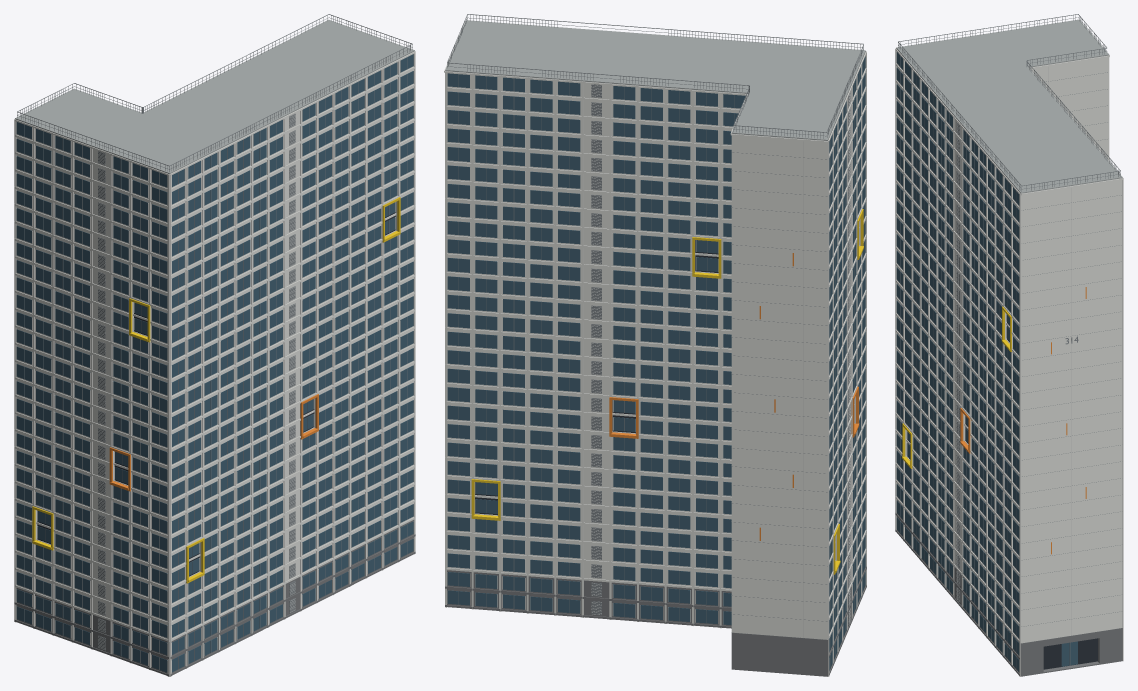
File: bespoke-songpa-helio-city-314.glb
The picture shows the model from 3 angles, left to right: view 1: azimuth 30°, elevation 25°; view 2: azimuth 150°, elevation 25°; view 3: azimuth 270°, elevation 25°; orthographic projection. The views are drawn at different scales.
Parts seen in each view (by area): view 1: Helio314_editable_Helio314_dark_blue_grey_glazing002, Helio314_editable_Helio314_white_slab_frames002, Helio314_editable_Helio314_low_roof_deck002, Helio314_editable_Helio314_grey_service_grille002, Helio314_editable_Helio314_dark_grey_twofloor_base002, Helio314_editable_Helio314_blankwall_grey_panels002, Helio314_editable_Helio314_yellow_projecting_rectangular_fra, Helio314_editable_Helio314_orange_narrow_accent002; view 2: Helio314_editable_Helio314_white_slab_frames002, Helio314_editable_Helio314_dark_blue_grey_glazing002, Helio314_editable_Helio314_low_roof_deck002, Helio314_editable_Helio314_grey_service_grille002, Helio314_editable_Helio314_dark_grey_twofloor_base002, Helio314_editable_Helio314_blankwall_grey_panels002, Helio314_editable_Helio314_yellow_projecting_rectangular_fra, Helio314_editable_Helio314_orange_narrow_accent002; view 3: Helio314_editable_Helio314_white_slab_frames002, Helio314_editable_Helio314_dark_blue_grey_glazing002, Helio314_editable_Helio314_low_roof_deck002, Helio314_editable_Helio314_grey_service_grille002, Helio314_editable_Helio314_dark_grey_twofloor_base002, Helio314_editable_Helio314_blankwall_grey_panels002, Helio314_editable_Helio314_deep_shaded_frame_recess002, Helio314_editable_Helio314_yellow_projecting_rectangular_fra, Helio314_editable_Helio314_orange_narrow_accent002.
Boxes of the visible parts, x1=… form: Helio314_editable_Helio314_dark_blue_grey_glazing002: x1=16, y1=54, x2=413, y2=672; Helio314_editable_Helio314_white_slab_frames002: x1=14, y1=51, x2=415, y2=676; Helio314_editable_Helio314_low_roof_deck002: x1=15, y1=19, x2=414, y2=173; Helio314_editable_Helio314_grey_service_grille002: x1=17, y1=14, x2=412, y2=669; Helio314_editable_Helio314_dark_grey_twofloor_base002: x1=14, y1=520, x2=415, y2=676; Helio314_editable_Helio314_blankwall_grey_panels002: x1=98, y1=113, x2=295, y2=649; Helio314_editable_Helio314_yellow_projecting_rectangular_fra: x1=32, y1=197, x2=400, y2=583; Helio314_editable_Helio314_orange_narrow_accent002: x1=109, y1=394, x2=318, y2=491; Helio314_editable_Helio314_white_slab_frames002: x1=444, y1=21, x2=866, y2=676; Helio314_editable_Helio314_dark_blue_grey_glazing002: x1=447, y1=56, x2=865, y2=670; Helio314_editable_Helio314_low_roof_deck002: x1=445, y1=20, x2=865, y2=140; Helio314_editable_Helio314_grey_service_grille002: x1=447, y1=14, x2=863, y2=667; Helio314_editable_Helio314_dark_grey_twofloor_base002: x1=445, y1=563, x2=866, y2=676; Helio314_editable_Helio314_blankwall_grey_panels002: x1=591, y1=84, x2=850, y2=637; Helio314_editable_Helio314_yellow_projecting_rectangular_fra: x1=471, y1=209, x2=863, y2=574; Helio314_editable_Helio314_orange_narrow_accent002: x1=609, y1=253, x2=859, y2=540; Helio314_editable_Helio314_white_slab_frames002: x1=895, y1=22, x2=1123, y2=676; Helio314_editable_Helio314_dark_blue_grey_glazing002: x1=896, y1=52, x2=1077, y2=671; Helio314_editable_Helio314_low_roof_deck002: x1=896, y1=19, x2=1122, y2=193; Helio314_editable_Helio314_grey_service_grille002: x1=898, y1=14, x2=1121, y2=668; Helio314_editable_Helio314_dark_grey_twofloor_base002: x1=895, y1=499, x2=1122, y2=676; Helio314_editable_Helio314_blankwall_grey_panels002: x1=956, y1=67, x2=1071, y2=635; Helio314_editable_Helio314_deep_shaded_frame_recess002: x1=907, y1=322, x2=1097, y2=669; Helio314_editable_Helio314_yellow_projecting_rectangular_fra: x1=902, y1=306, x2=1011, y2=468; Helio314_editable_Helio314_orange_narrow_accent002: x1=960, y1=287, x2=1086, y2=554.
Size of the model in its own units: 62.77 by 82.4 by 34.76.
